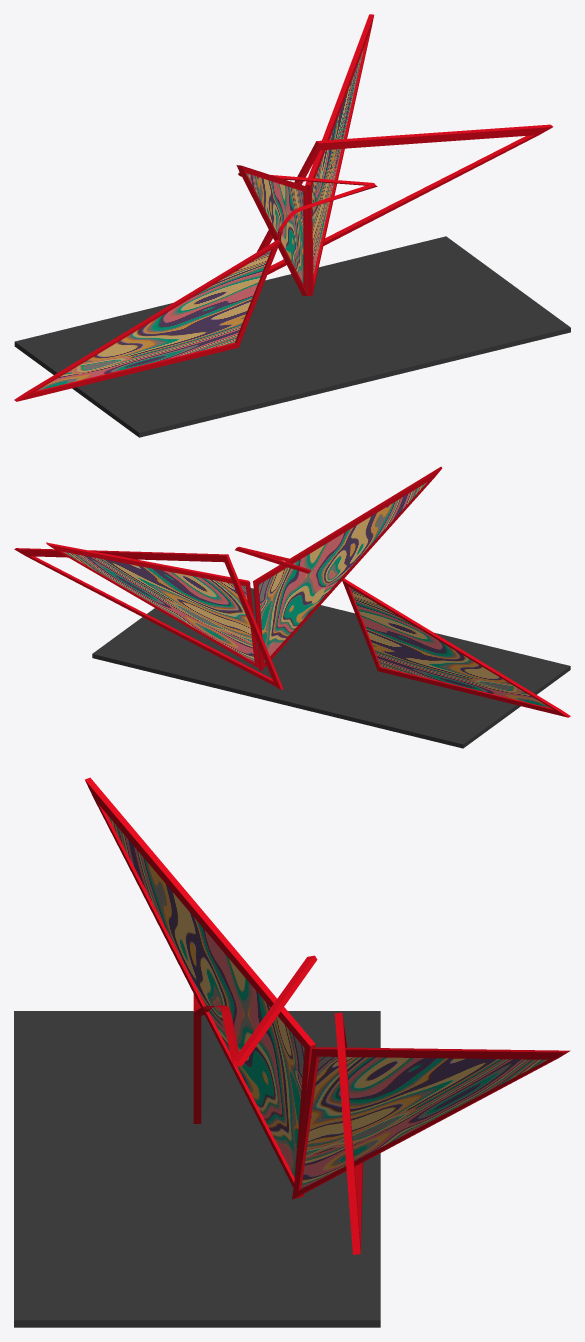
File: abstract.fbx
3 views of the same model, one above another, from view 1: azimuth 30°, elevation 25°; view 2: azimuth 150°, elevation 25°; view 3: azimuth 270°, elevation 25° (orthographic). The views are drawn at different scales.
Visible parts, largest first — view 1: Cube.004, Cube, Cube.002, Cube.003, Cube.001; view 2: Cube.004, Cube, Cube.001, Cube.002, Cube.003; view 3: Cube.004, Cube.001, Cube.002, Cube, Cube.003.
Boxes of the visible parts, bbox=[...] form: Cube.004: bbox=[14, 236, 570, 437]; Cube: bbox=[14, 172, 377, 401]; Cube.002: bbox=[305, 14, 374, 296]; Cube.003: bbox=[257, 124, 552, 274]; Cube.001: bbox=[236, 165, 306, 295]; Cube.004: bbox=[92, 588, 570, 748]; Cube: bbox=[235, 546, 570, 717]; Cube.001: bbox=[253, 466, 442, 671]; Cube.002: bbox=[46, 542, 259, 669]; Cube.003: bbox=[14, 548, 283, 689]; Cube.004: bbox=[14, 1011, 380, 1327]; Cube.001: bbox=[85, 777, 315, 1198]; Cube.002: bbox=[292, 1047, 570, 1199]; Cube: bbox=[193, 955, 317, 1123]; Cube.003: bbox=[334, 1012, 363, 1254].
Bounding box in the file's own units: 25848 × 9349 × 14352.
